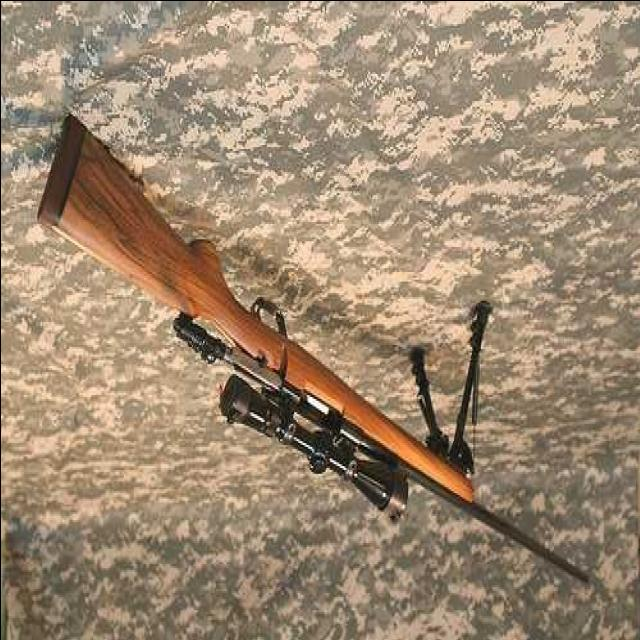heavyweapon: (34, 90, 605, 632)
